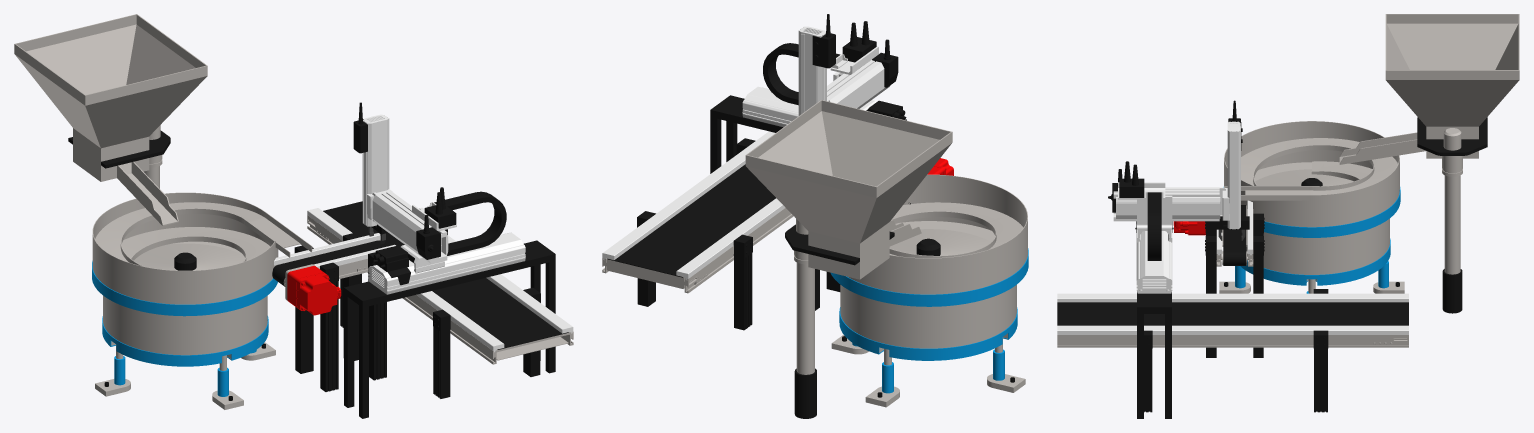
File: Pick_and_Place_Station_Box.glb
3 views of the same model, side by side, from view 1: azimuth 30°, elevation 25°; view 2: azimuth 150°, elevation 25°; view 3: azimuth 270°, elevation 25° (orthographic). The views are drawn at different scales.
Visible parts, largest first — view 1: color-12[21].001, color-12[20].001, color-12[5].001, color-12[27].001, color-8.002, color-13[2], color-9.002, color-5[5], color-12.003, color.003, color-11[1], color-12[6].001 (+18 smaller); view 2: color-12[21].001, color-12[20].001, color-12[5].001, color-13[2], color-12[27].001, color-12.003, color-13[3], color-12[6].001, color-12[25].001, color-8.002, color-5[5], color.003 (+16 smaller); view 3: color-12[21].001, color-12[20].001, color-13[2], color-12[27].001, color-12[5].001, color-13[5], color-13[3], color-13[4], color-5[5], color-8.002, color-9.002, color-12[25].001 (+14 smaller).
Boxes of the visible parts, left/top/right/bottom form: color-12[21].001: left=14, top=14, right=207, bottom=225; color-12[20].001: left=92, top=192, right=278, bottom=304; color-12[5].001: left=103, top=295, right=267, bottom=358; color-12[27].001: left=95, top=202, right=312, bottom=266; color-8.002: left=344, top=240, right=555, bottom=418; color-13[2]: left=323, top=201, right=568, bottom=349; color-9.002: left=368, top=232, right=525, bottom=294; color-5[5]: left=366, top=189, right=448, bottom=263; color-12.003: left=92, top=261, right=277, bottom=316; color.003: left=362, top=114, right=389, bottom=226; color-11[1]: left=287, top=265, right=341, bottom=315; color-12[6].001: left=102, top=316, right=268, bottom=366; color-12[21].001: left=745, top=100, right=952, bottom=279; color-12[20].001: left=847, top=174, right=1027, bottom=294; color-12[5].001: left=840, top=284, right=1016, bottom=352; color-13[2]: left=607, top=164, right=775, bottom=277; color-12[27].001: left=889, top=202, right=1023, bottom=258; color-12.003: left=830, top=248, right=1028, bottom=306; color-13[3]: left=602, top=131, right=775, bottom=259; color-12[6].001: left=839, top=307, right=1017, bottom=360; color-12[25].001: left=796, top=262, right=814, bottom=374; color-8.002: left=710, top=95, right=782, bottom=173; color-5[5]: left=827, top=59, right=890, bottom=108; color.003: left=798, top=26, right=826, bottom=115; color-12[21].001: left=1339, top=14, right=1519, bottom=164; color-12[20].001: left=1224, top=121, right=1399, bottom=227; color-13[2]: left=1057, top=302, right=1408, bottom=325; color-12[27].001: left=1224, top=138, right=1397, bottom=200; color-12[5].001: left=1246, top=218, right=1389, bottom=281; color-13[5]: left=1057, top=335, right=1382, bottom=347; color-13[3]: left=1057, top=325, right=1408, bottom=334; color-13[4]: left=1057, top=293, right=1408, bottom=302; color-5[5]: left=1113, top=187, right=1229, bottom=221; color-8.002: left=1137, top=292, right=1171, bottom=418; color-9.002: left=1136, top=224, right=1172, bottom=293; color-12[25].001: left=1444, top=175, right=1460, bottom=274.
Size of the model in its own units: 1.13 by 0.79 by 1.31.
